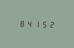eight: (18, 19, 24, 27)
five: (39, 20, 45, 28)
four: (25, 19, 31, 27)
one: (32, 19, 38, 28)
two: (46, 20, 52, 28)
